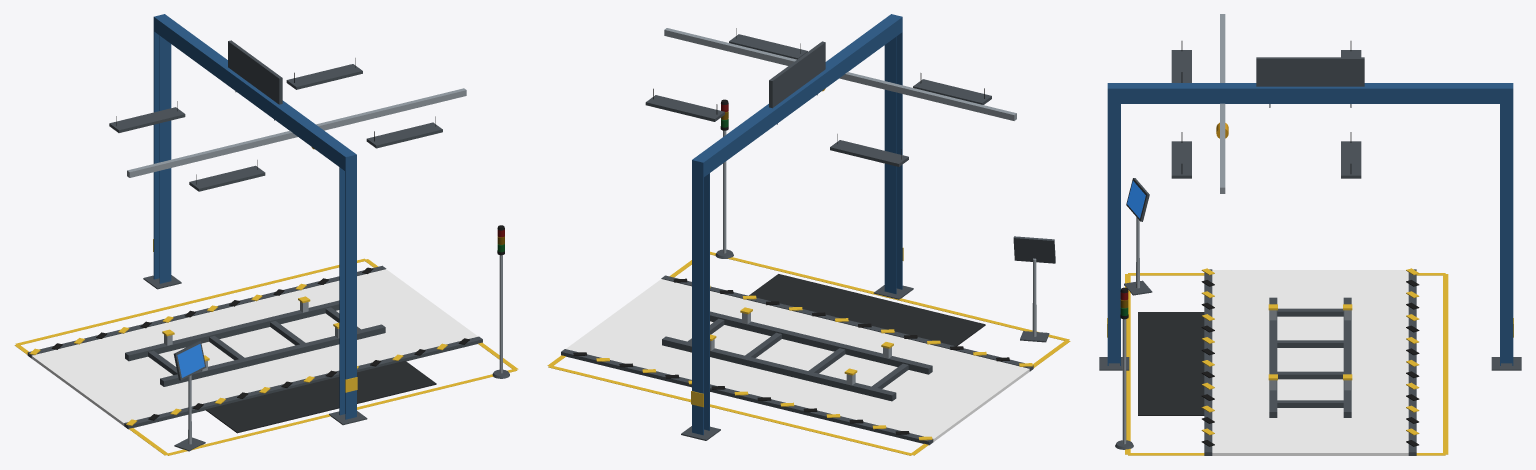
Rendered from station.glb.
3 views of the same model, side by side, from view 1: azimuth 30°, elevation 25°; view 2: azimuth 150°, elevation 25°; view 3: azimuth 270°, elevation 25° (orthographic). The views are drawn at different scales.
Parts seen in each view (by area): view 1: Conveyor__Slat, Frame__BeamBlue, Zone__RubberMat, Skid__SteelDark, Frame__SteelDark, Conveyor__SteelDark, Frame__Steel, Zone__SafetyYellow, Sign__SteelDark, Conveyor__SafetyBlack, Conveyor__SafetyYellow, OIS_Screen__Screen (+1 smaller); view 2: Conveyor__Slat, Frame__BeamBlue, Zone__RubberMat, Skid__SteelDark, Frame__SteelDark, Conveyor__SteelDark, Frame__Steel, Zone__SafetyYellow, Sign__SteelDark, OIS__SteelDark, Conveyor__SafetyBlack, Conveyor__SafetyYellow; view 3: Conveyor__Slat, Frame__BeamBlue, Zone__RubberMat, Skid__SteelDark, Sign__SteelDark, Frame__SteelDark, Zone__SafetyYellow, Conveyor__SteelDark, Frame__Steel, Conveyor__SafetyYellow, Conveyor__SafetyBlack, AndonPole__Steel (+1 smaller).
Part boxes in pixels (left/top/right/bottom): Conveyor__Slat: left=31, top=269, right=477, bottom=425; Frame__BeamBlue: left=153, top=14, right=356, bottom=419; Zone__RubberMat: left=205, top=360, right=436, bottom=433; Skid__SteelDark: left=125, top=300, right=385, bottom=386; Frame__SteelDark: left=109, top=64, right=442, bottom=425; Conveyor__SteelDark: left=27, top=265, right=482, bottom=429; Frame__Steel: left=127, top=88, right=466, bottom=177; Zone__SafetyYellow: left=14, top=258, right=518, bottom=455; Sign__SteelDark: left=228, top=40, right=282, bottom=104; Conveyor__SafetyBlack: left=51, top=267, right=469, bottom=420; Conveyor__SafetyYellow: left=29, top=283, right=447, bottom=425; OIS_Screen__Screen: left=177, top=344, right=204, bottom=377; Conveyor__Slat: left=566, top=279, right=1029, bottom=441; Frame__BeamBlue: left=692, top=14, right=902, bottom=435; Zone__RubberMat: left=749, top=274, right=985, bottom=346; Skid__SteelDark: left=662, top=311, right=932, bottom=401; Frame__SteelDark: left=645, top=34, right=991, bottom=440; Conveyor__SteelDark: left=561, top=275, right=1033, bottom=445; Frame__Steel: left=664, top=28, right=1016, bottom=120; Zone__SafetyYellow: left=547, top=251, right=1070, bottom=455; Sign__SteelDark: left=769, top=41, right=825, bottom=108; OIS__SteelDark: left=1013, top=236, right=1055, bottom=342; Conveyor__SafetyBlack: left=573, top=278, right=1009, bottom=434; Conveyor__SafetyYellow: left=596, top=285, right=1032, bottom=440; Conveyor__Slat: left=1212, top=270, right=1408, bottom=455; Frame__BeamBlue: left=1107, top=83, right=1513, bottom=365; Zone__RubberMat: left=1138, top=312, right=1204, bottom=415; Skid__SteelDark: left=1269, top=297, right=1351, bottom=417; Sign__SteelDark: left=1256, top=57, right=1364, bottom=86; Frame__SteelDark: left=1099, top=50, right=1521, bottom=370; Zone__SafetyYellow: left=1125, top=273, right=1448, bottom=455; Conveyor__SteelDark: left=1204, top=269, right=1416, bottom=455; Frame__Steel: left=1220, top=14, right=1225, bottom=193; Conveyor__SafetyYellow: left=1201, top=268, right=1419, bottom=435; Conveyor__SafetyBlack: left=1201, top=280, right=1419, bottom=446; AndonPole__Steel: left=1122, top=319, right=1126, bottom=444.
Bounding box in the file's own units: 6.41 × 5 × 6.24.
